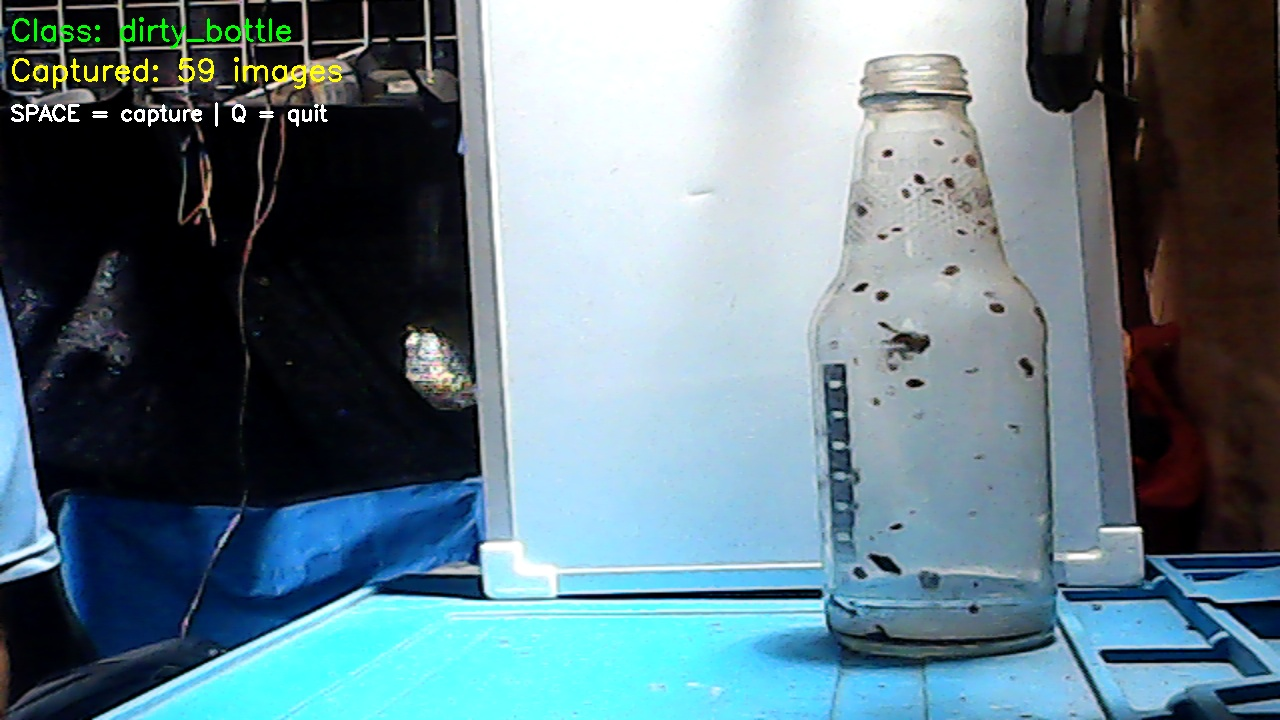dirty_bottle: (773, 64, 1072, 667)
